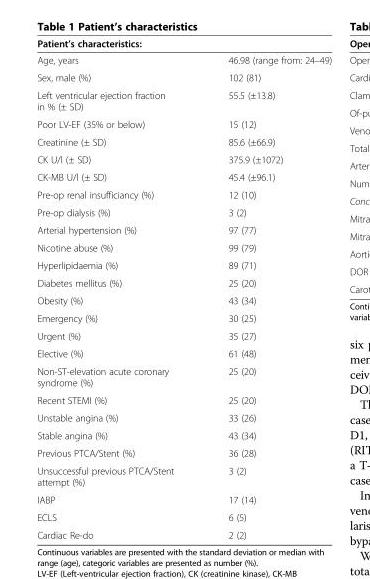table: (36, 37, 331, 540)
table column: (36, 37, 200, 540), (200, 37, 331, 540)
table column header: (36, 37, 331, 68)
table row: (36, 86, 331, 115), (36, 362, 331, 391), (36, 461, 331, 490), (36, 68, 331, 86), (36, 132, 331, 150), (36, 167, 331, 185), (36, 185, 331, 203), (36, 220, 331, 238), (36, 238, 331, 256), (36, 273, 331, 291), (36, 291, 331, 309), (36, 326, 331, 344), (36, 344, 331, 362), (36, 408, 331, 426), (36, 443, 331, 461), (36, 490, 331, 508), (36, 51, 331, 68), (36, 115, 331, 132), (36, 150, 331, 167), (36, 203, 331, 220), (36, 256, 331, 273), (36, 309, 331, 326), (36, 391, 331, 408), (36, 426, 331, 443), (36, 508, 331, 525), (36, 525, 331, 540), (36, 37, 331, 51)
table spanning cell: (36, 37, 331, 51)
